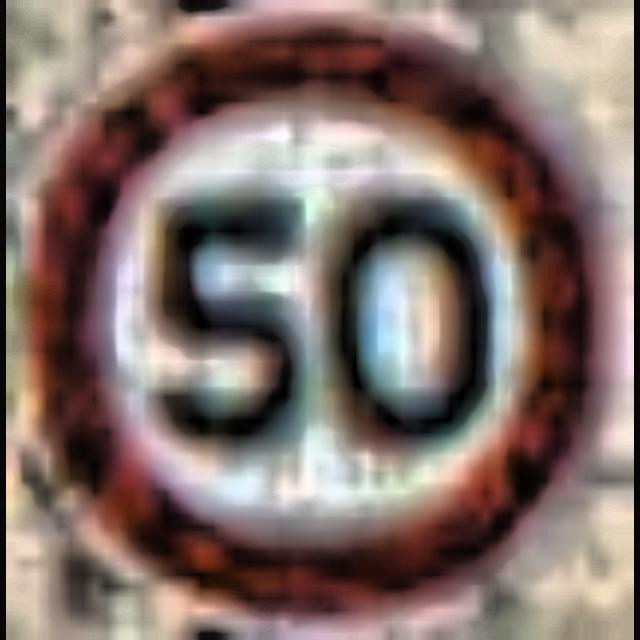speed_50: (6, 0, 622, 628)
